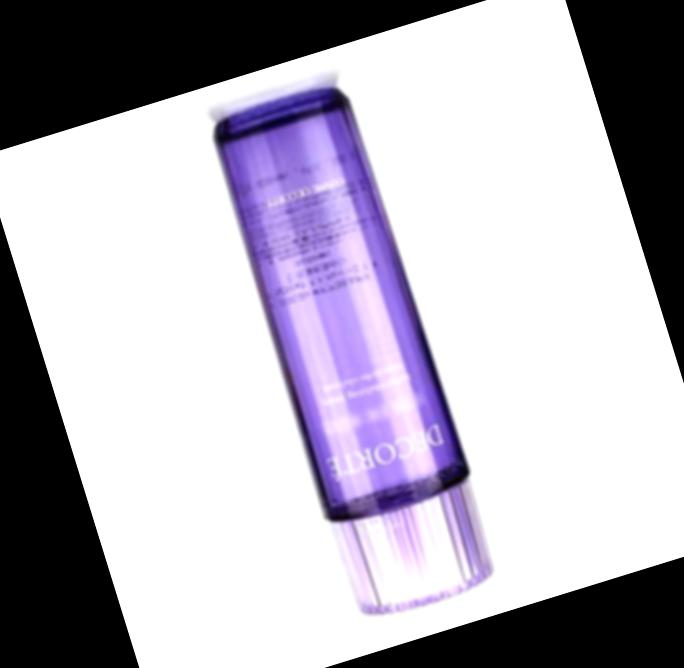cosmetic: (198, 74, 510, 621)
